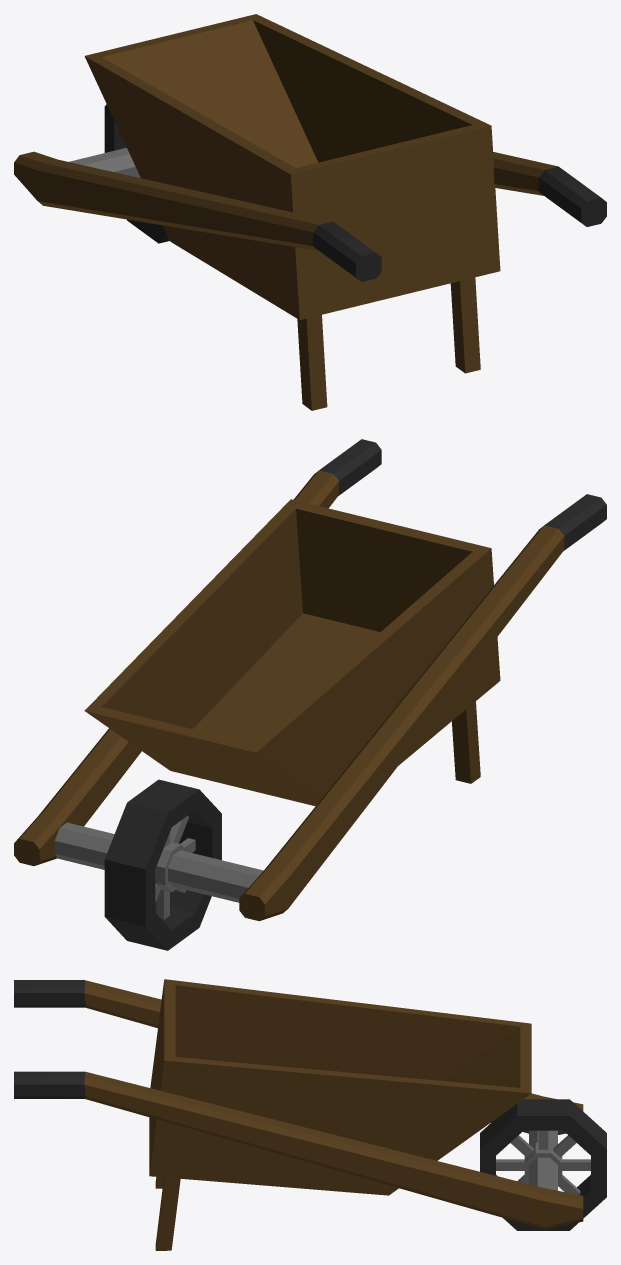
The model's file is Wheelbarrow_test_02.fbx.
The picture shows the model from 3 angles, top to bottom: view 1: azimuth 30°, elevation 25°; view 2: azimuth 150°, elevation 25°; view 3: azimuth 270°, elevation 25°; orthographic projection. The views are drawn at different scales.
Parts seen in each view (by area): view 1: pCube5; view 2: pCube5; view 3: pCube5.
Part boxes in pixels (bbox=[...]): pCube5: bbox=[14, 14, 606, 410]; pCube5: bbox=[14, 439, 606, 950]; pCube5: bbox=[14, 979, 606, 1250].
Bounding box in the file's own units: 123 × 114 × 302.
